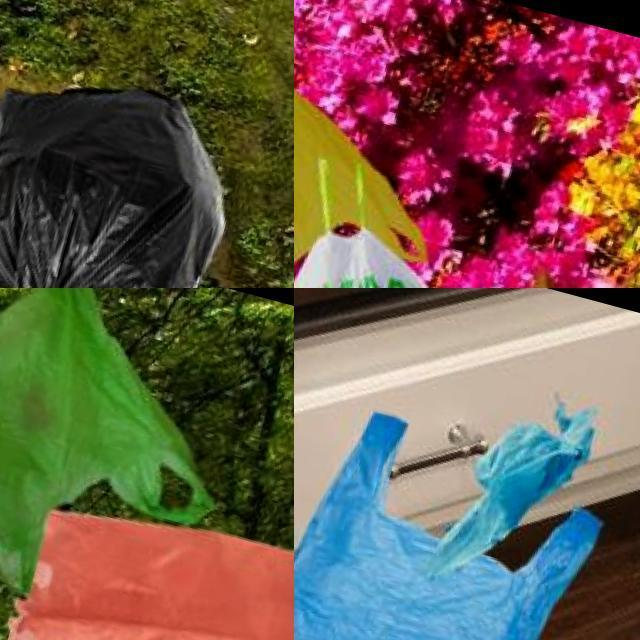waste: (0, 288, 261, 616), (294, 392, 614, 640), (0, 52, 240, 288), (0, 108, 158, 288), (294, 209, 599, 288)
